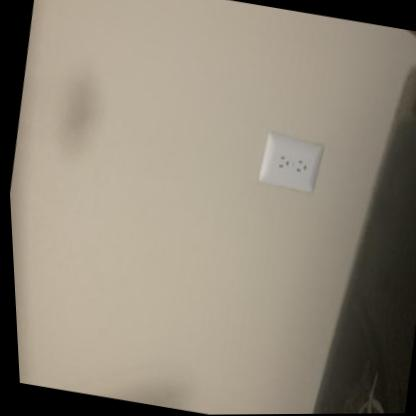OUTLET: (255, 133, 325, 193)
